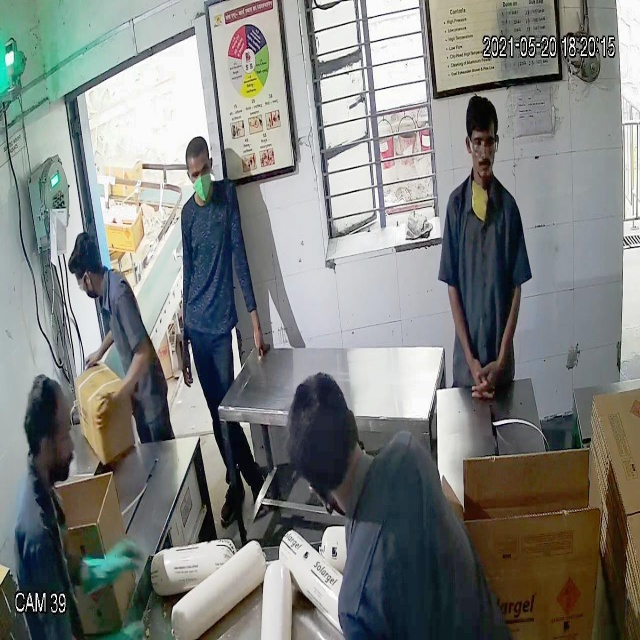Gafas: (465, 127, 502, 160)
Sin_gafas: (186, 163, 213, 180)
